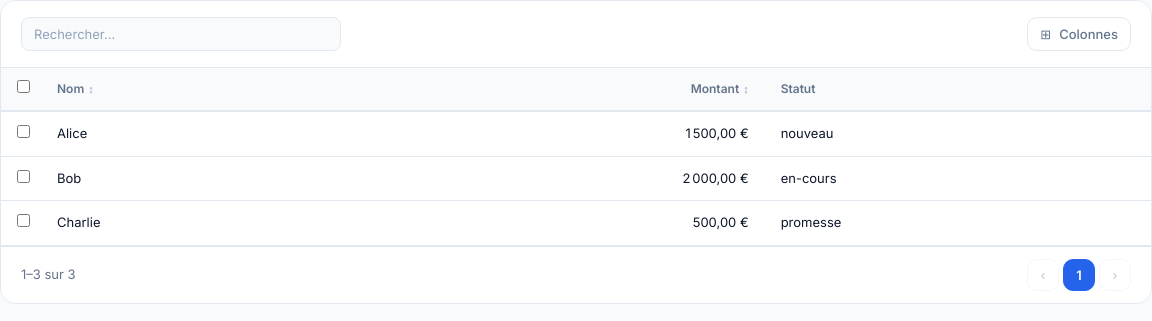
Test: DataGridComponent › global filter › should show only matching rows after filter input
Type "alice" into the search field with class "grid__search". click: (181, 34)
box: top-left (21, 17), bottom-right (341, 51)
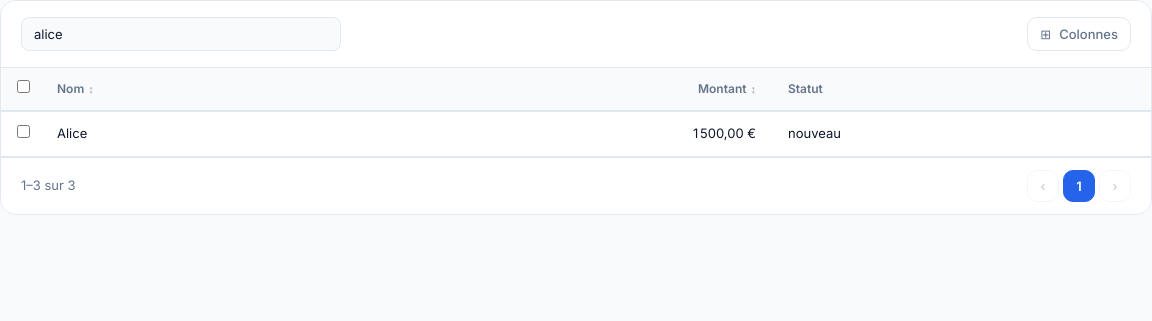
Check: the number of rows with class "grid__row" is 1, box top-left (1, 111), bottom-right (1151, 156)
